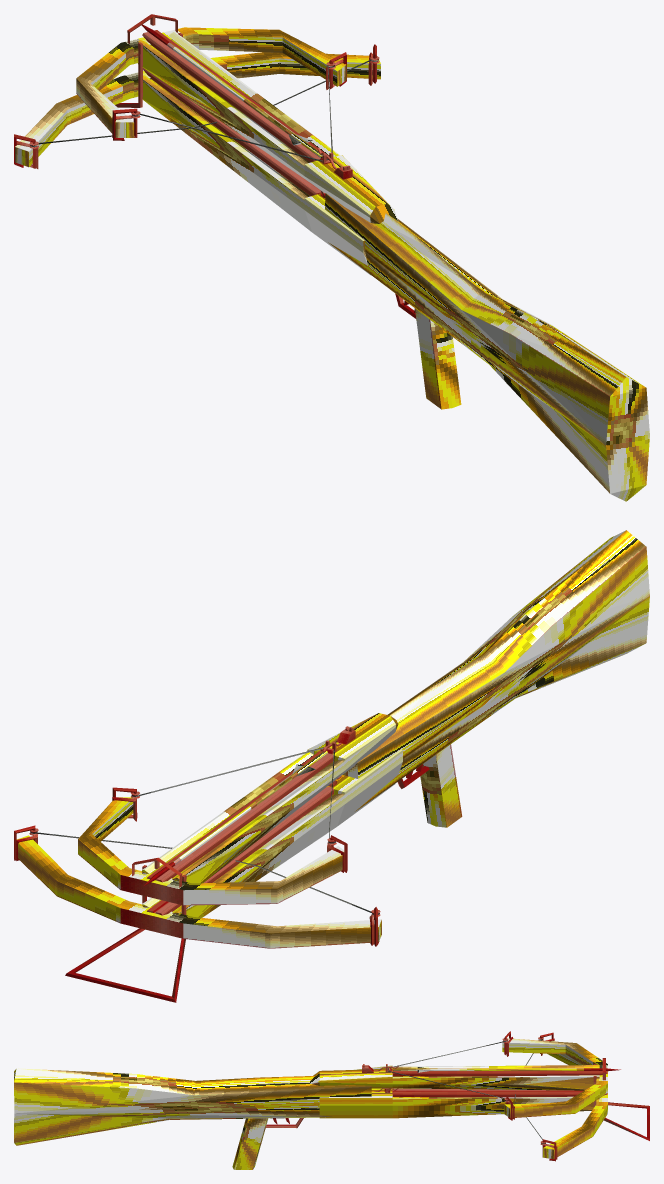
The model's file is double_crossbow_stretching_lower_2.obj.
The picture shows the model from 3 angles, top to bottom: view 1: azimuth 30°, elevation 25°; view 2: azimuth 150°, elevation 25°; view 3: azimuth 270°, elevation 25°; orthographic projection. The views are drawn at different scales.
Visible parts, largest first — view 1: Torus.009_Torus.008, Torus.000, Torus.001_Torus.007, Torus.002_Torus.009; view 2: Torus.009_Torus.008, Torus.000, Torus.001_Torus.007, Torus.002_Torus.009; view 3: Torus.009_Torus.008, Torus.000, Torus.001_Torus.007, Torus.002_Torus.009.
Part boxes in pixels (x1=…): Torus.009_Torus.008: x1=317, y1=147, x2=649, y2=501; Torus.000: x1=115, y1=14, x2=398, y2=275; Torus.001_Torus.007: x1=14, y1=27, x2=380, y2=168; Torus.002_Torus.009: x1=141, y1=24, x2=322, y2=158; Torus.009_Torus.008: x1=320, y1=530, x2=649, y2=827; Torus.000: x1=65, y1=713, x2=402, y2=1002; Torus.001_Torus.007: x1=14, y1=747, x2=381, y2=948; Torus.002_Torus.009: x1=144, y1=751, x2=327, y2=885; Torus.009_Torus.008: x1=14, y1=1064, x2=398, y2=1169; Torus.000: x1=310, y1=1058, x2=649, y2=1140; Torus.001_Torus.007: x1=388, y1=1031, x2=607, y2=1161; Torus.002_Torus.009: x1=393, y1=1067, x2=620, y2=1072.
Bounding box in the file's own units: 3.2 × 1.45 × 7.77.
